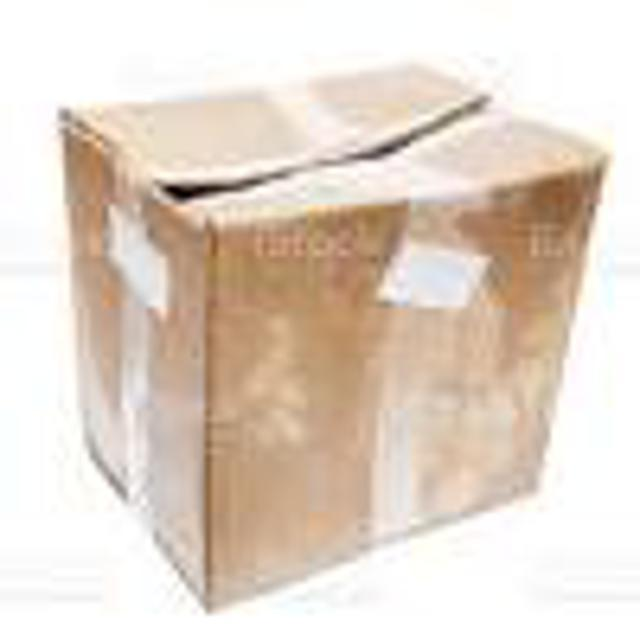defect: (56, 55, 608, 614)
